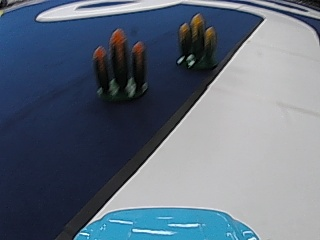corn: (92, 28, 148, 103), (176, 13, 216, 70)
